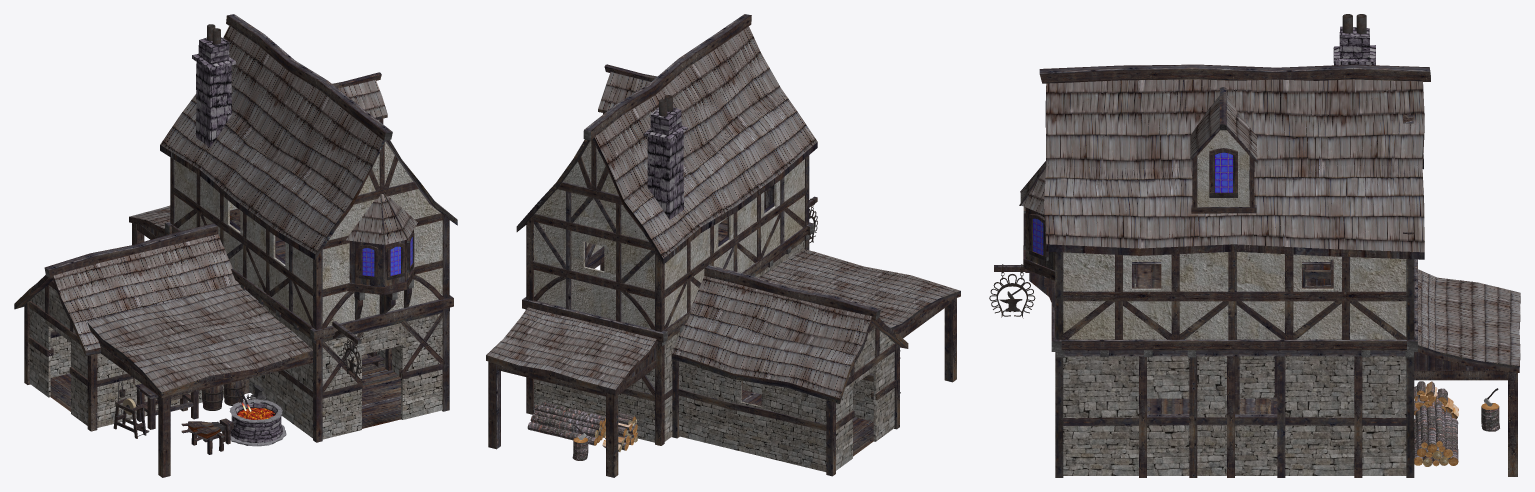
File: forja.glb
The picture shows the model from 3 angles, left to right: view 1: azimuth 30°, elevation 25°; view 2: azimuth 150°, elevation 25°; view 3: azimuth 270°, elevation 25°; orthographic projection. The views are drawn at different scales.
Parts seen in each view (by area): view 1: Roof, WoodenBeams, WallsBrickLevel1, WallsPlasterLevel2, RoofFrame, Chimney, Floor, WoodenBeamsExtraFront, Forge, WorkBench, Bellow, Grindstone (+2 smaller); view 2: Roof, WoodenBeams, WallsBrickLevel1, WallsPlasterLevel2, RoofFrame, Chimney, WoodenBeamsExtraBack, PileOfLogs, WoodenBeamsExtraFront, Floor, PileofChoppedWood; view 3: Roof, WallsBrickLevel1, WoodenBeams, WallsPlasterLevel2, RoofFrame, WoodenBeamsExtraBack, PileOfLogs, WallsPlasterLevel3, FloorUpper, Chimney, Floor, BlacksmithSign (+4 smaller).
Part boxes in pixels (bbox=[...]): Roof: bbox=[53, 25, 454, 392]; WoodenBeams: bbox=[24, 118, 453, 442]; WallsBrickLevel1: bbox=[29, 285, 442, 439]; WallsPlasterLevel2: bbox=[174, 142, 442, 326]; RoofFrame: bbox=[14, 14, 457, 397]; Chimney: bbox=[192, 37, 235, 147]; Floor: bbox=[50, 354, 400, 428]; WoodenBeamsExtraFront: bbox=[98, 340, 312, 477]; Forge: bbox=[229, 399, 286, 446]; WorkBench: bbox=[135, 383, 198, 429]; Bellow: bbox=[181, 418, 233, 454]; Grindstone: bbox=[113, 382, 149, 438]; Roof: bbox=[486, 26, 960, 398]; WoodenBeams: bbox=[522, 113, 899, 476]; WallsBrickLevel1: bbox=[534, 240, 894, 471]; WallsPlasterLevel2: bbox=[534, 140, 804, 328]; RoofFrame: bbox=[486, 14, 960, 403]; Chimney: bbox=[643, 107, 688, 219]; WoodenBeamsExtraBack: bbox=[488, 345, 656, 477]; PileOfLogs: bbox=[527, 402, 605, 445]; WoodenBeamsExtraFront: bbox=[895, 298, 956, 382]; Floor: bbox=[742, 390, 873, 456]; PileofChoppedWood: bbox=[602, 412, 637, 451]; Roof: bbox=[1020, 79, 1520, 365]; WallsBrickLevel1: bbox=[1063, 280, 1406, 475]; WoodenBeams: bbox=[1019, 114, 1417, 477]; WallsPlasterLevel2: bbox=[1063, 252, 1406, 339]; RoofFrame: bbox=[1039, 64, 1520, 372]; WoodenBeamsExtraBack: bbox=[1414, 352, 1517, 476]; PileOfLogs: bbox=[1414, 403, 1458, 466]; WallsPlasterLevel3: bbox=[1197, 130, 1249, 206]; FloorUpper: bbox=[1132, 264, 1330, 414]; Chimney: bbox=[1333, 26, 1375, 65]; Floor: bbox=[1147, 398, 1270, 414]; BlacksmithSign: bbox=[989, 264, 1035, 318].
Size of the model in its own units: 9.83 by 9.81 by 11.94.
Materials: 19 (19 with a texture image).
